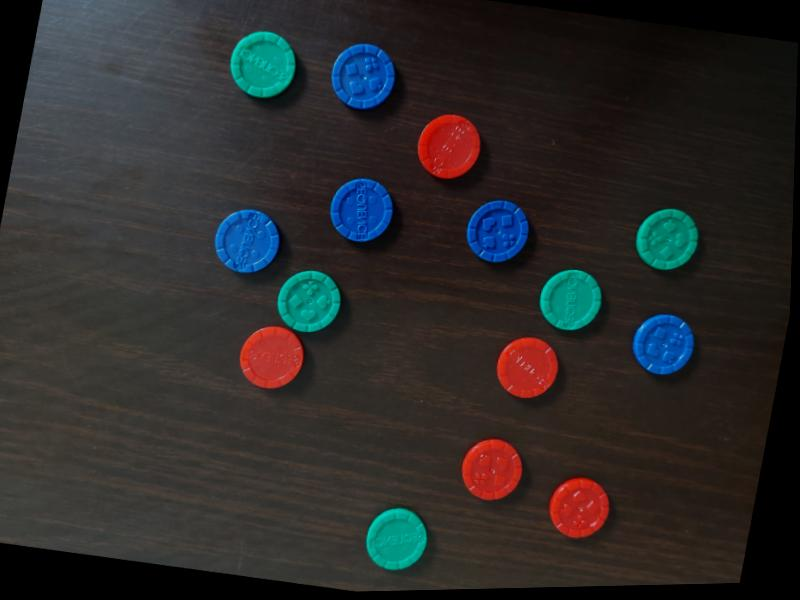Blue_Token: (313, 158, 411, 262), (198, 196, 291, 287), (325, 24, 410, 118), (626, 300, 703, 384)
Green_Token: (204, 12, 310, 132), (341, 488, 444, 586), (520, 251, 618, 345), (258, 256, 359, 343), (623, 188, 713, 284)
Red_Token: (530, 459, 638, 557), (404, 100, 504, 194), (444, 419, 536, 518), (222, 318, 319, 405), (484, 327, 566, 410)
